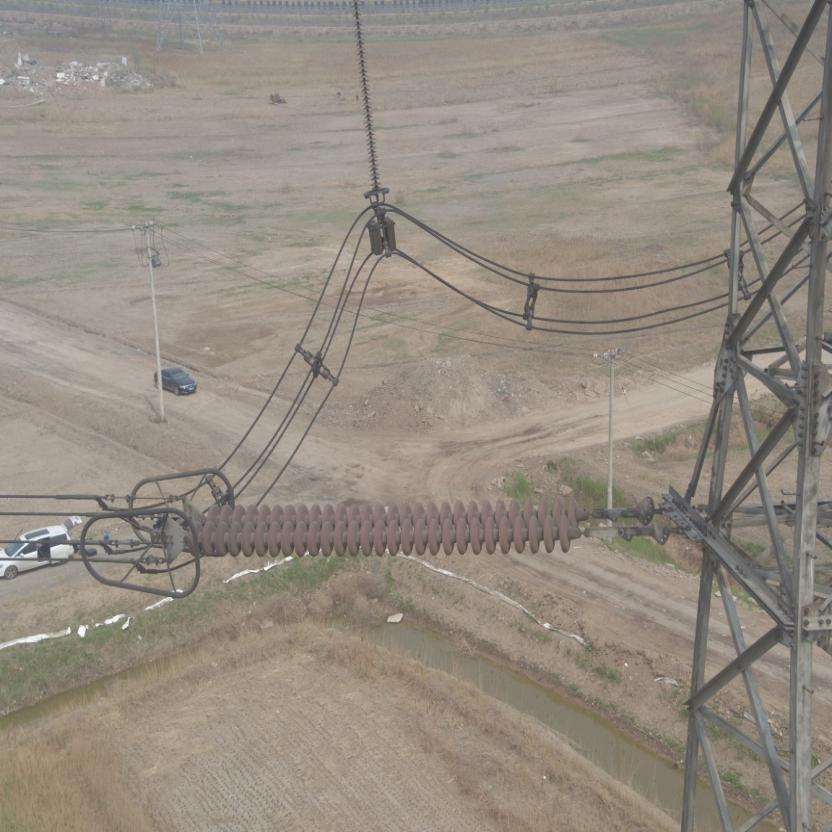insulator: (180, 496, 624, 558)
